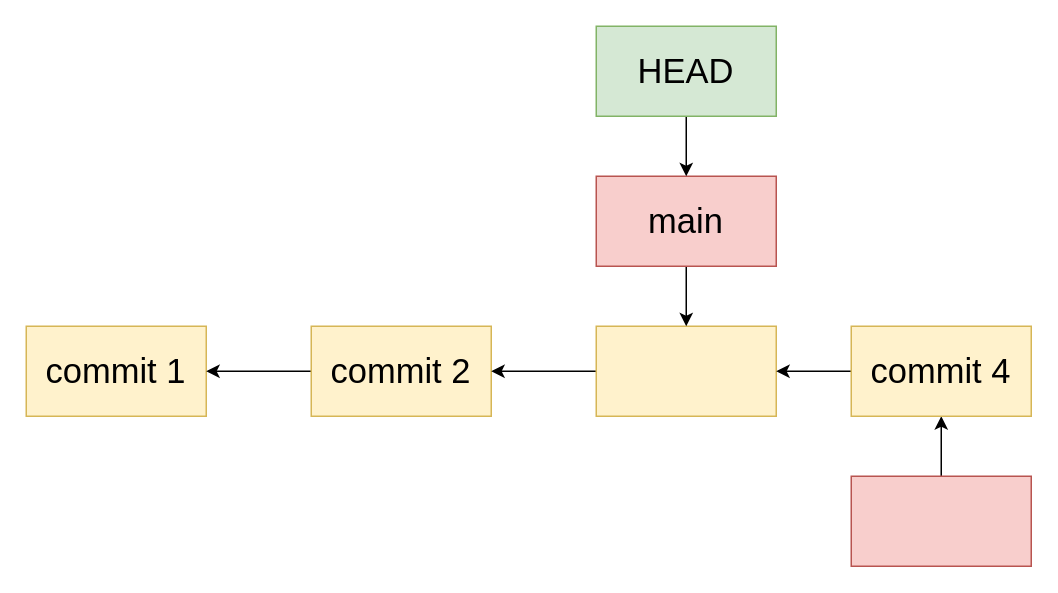
The diagram is 1058 pixels wide and 593 high, and some of its shapes have lost their labels. The shapes that lost their labels are listed below. From the top down, each one's centre as x and y in pixels, then its label:
pixel 685 370: commit 3
pixel 940 520: testing
